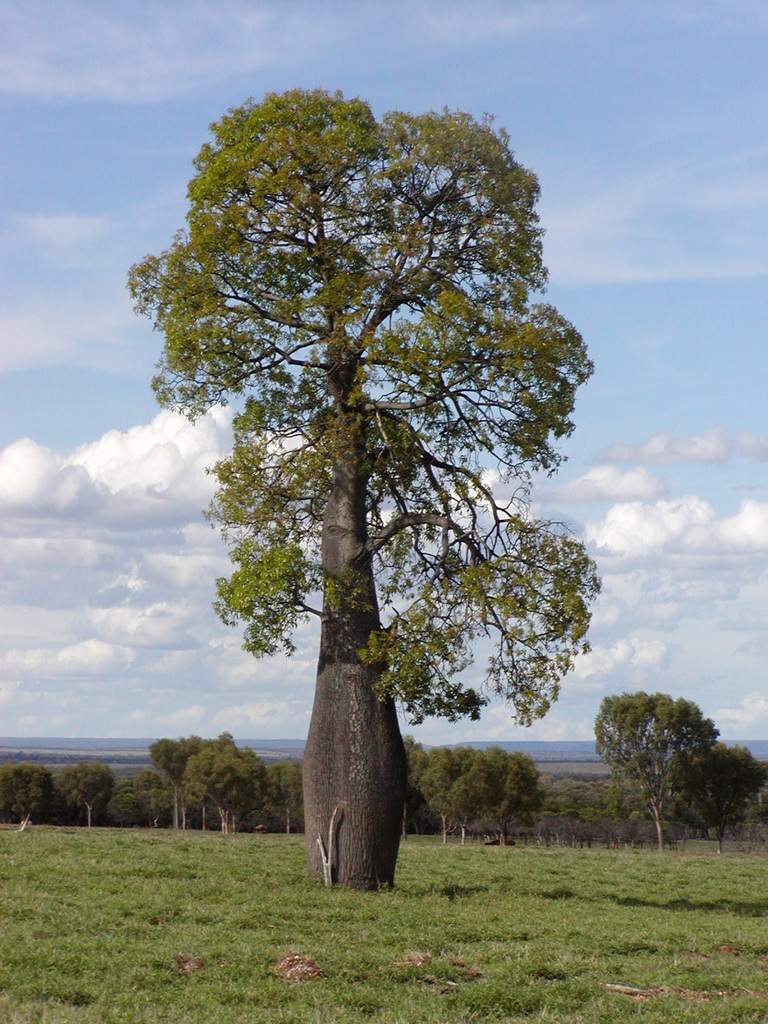Tree: (0, 84, 768, 890)
